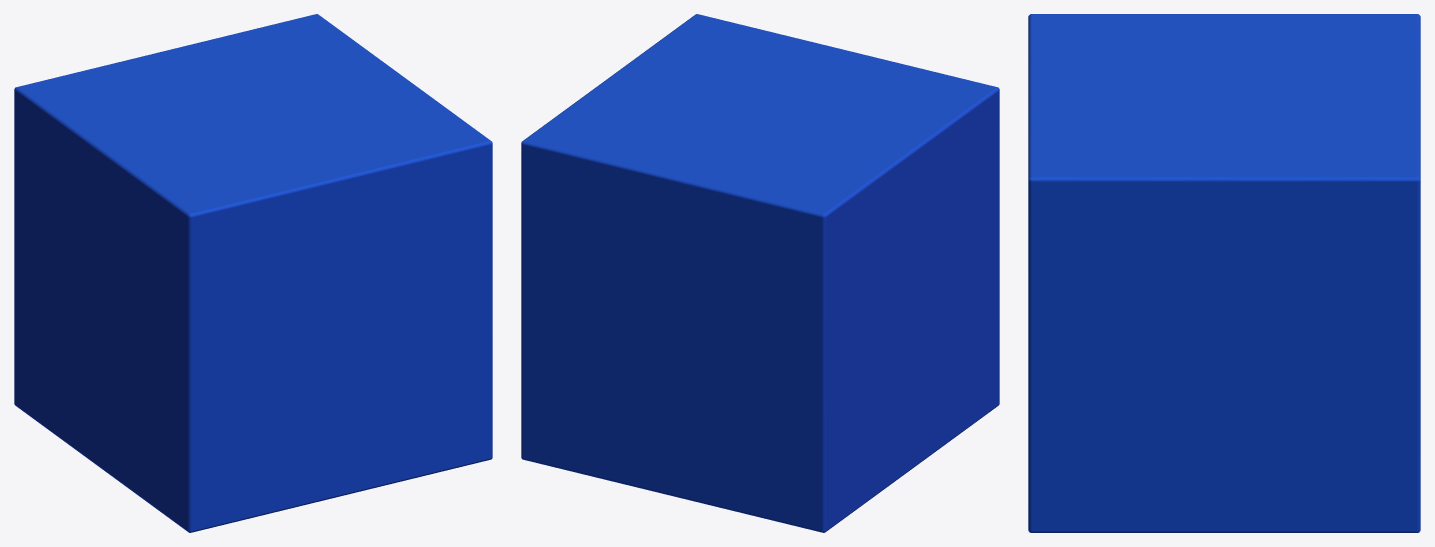
Rendered from cubo.glb.
3 renders of one model, left to right at view 1: azimuth 30°, elevation 25°; view 2: azimuth 150°, elevation 25°; view 3: azimuth 270°, elevation 25°, orthographic. The views are drawn at different scales.
Visible parts, largest first — view 1: node_id53; view 2: node_id53; view 3: node_id53.
Part boxes in pixels (x1=…): node_id53: x1=14, y1=14, x2=492, y2=532; node_id53: x1=521, y1=14, x2=999, y2=532; node_id53: x1=1028, y1=14, x2=1420, y2=532.
Bounding box in the file's own units: 0.512 × 0.512 × 0.512.
2 materials, 2 textured.
